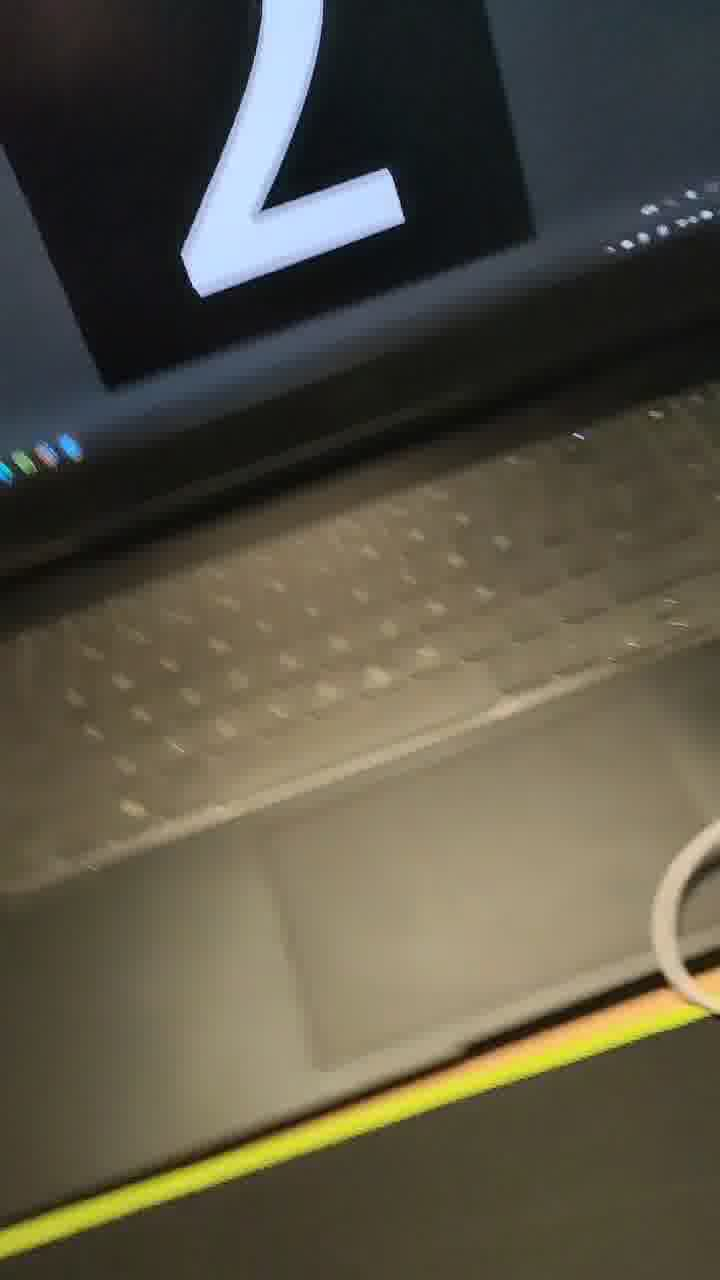two: (63, 1, 433, 347)
